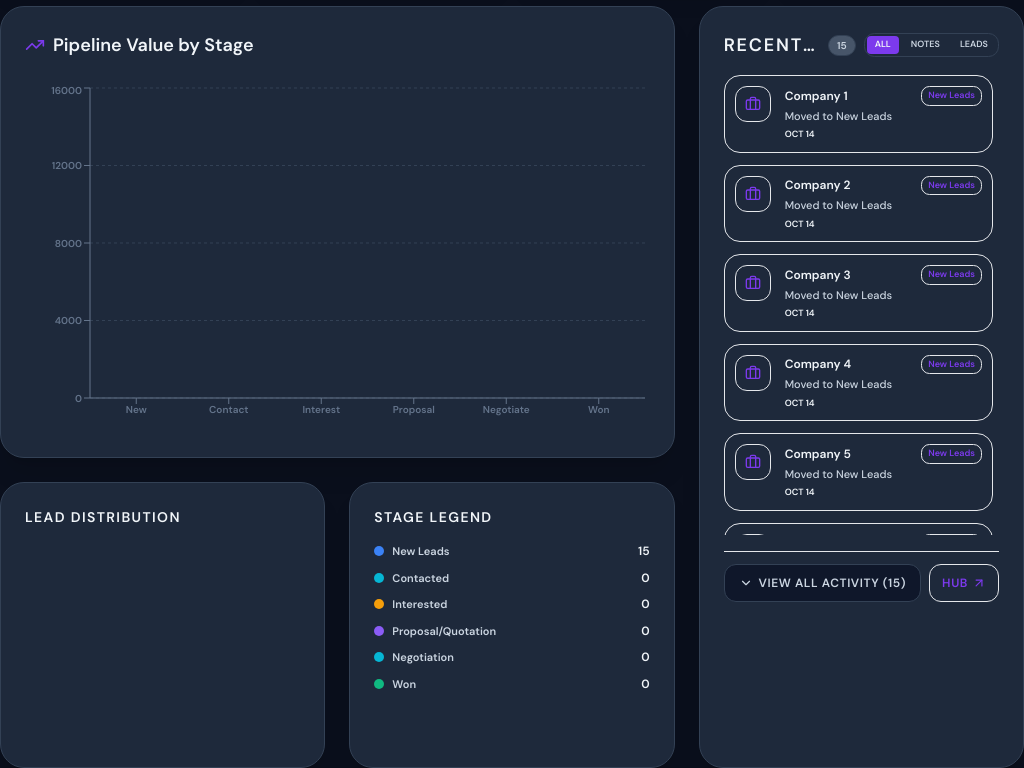
Test: CRMDashboard › allows clicking View All Activity to expand the full list and shows scrollable items
(page scrolled)
Check: the text "Company 1" is shown, box [785,88,848,104]
# Click to expand
Click the button "View All Activity (15)" at (822, 583), box [724,564,921,602]
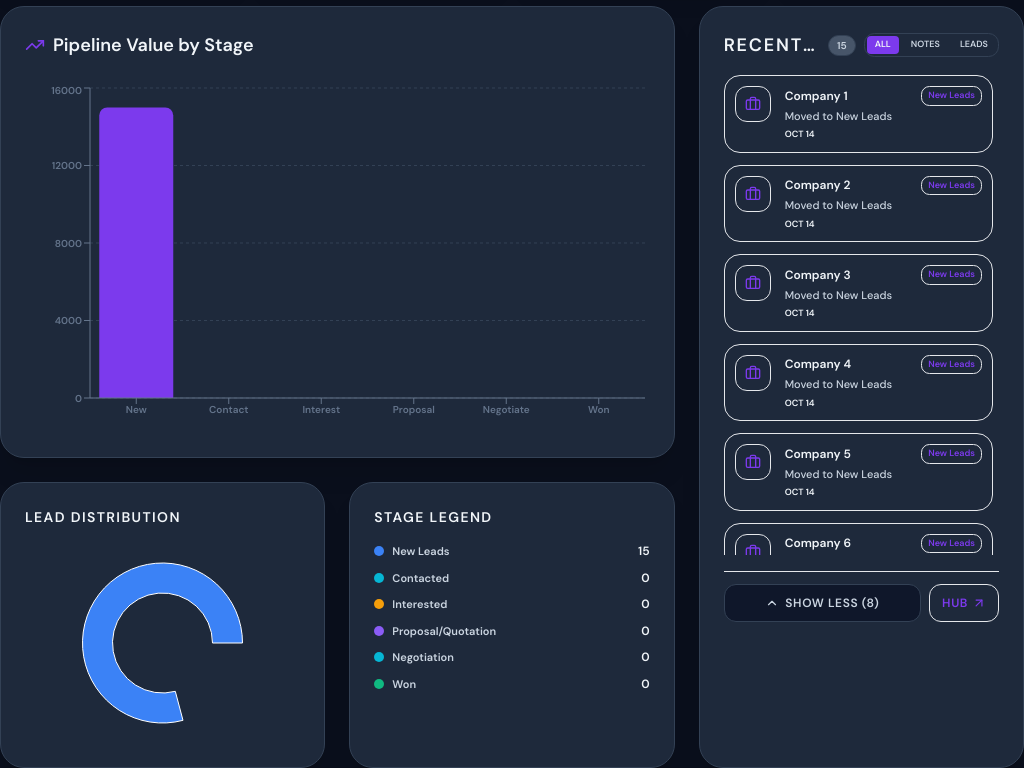
Check: the button "Show Less (8)" is shown, box [724,584,921,622]
